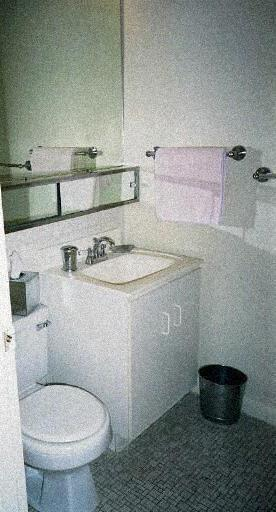Bote de Basura: (184, 363, 250, 430)
Lavamanos: (46, 233, 183, 298)
Puerta: (1, 197, 24, 510)
Sanitario: (12, 310, 111, 505)
